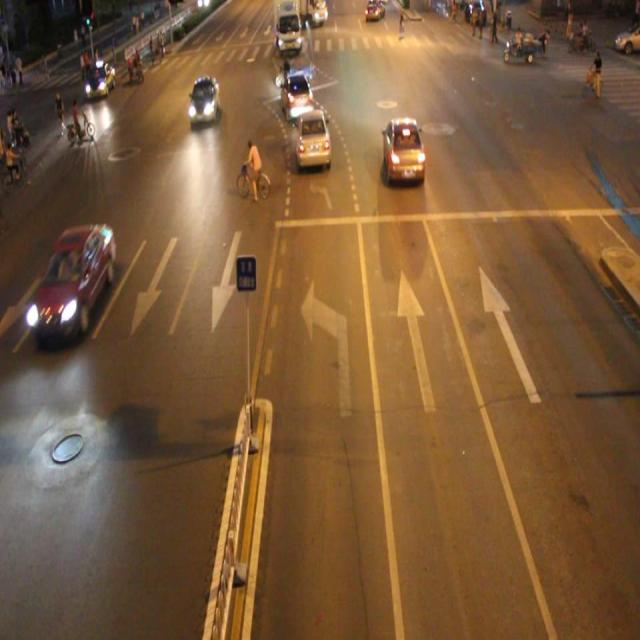car: (32, 222, 114, 340), (384, 114, 426, 186), (295, 104, 334, 164), (280, 67, 316, 119), (187, 75, 220, 121)
